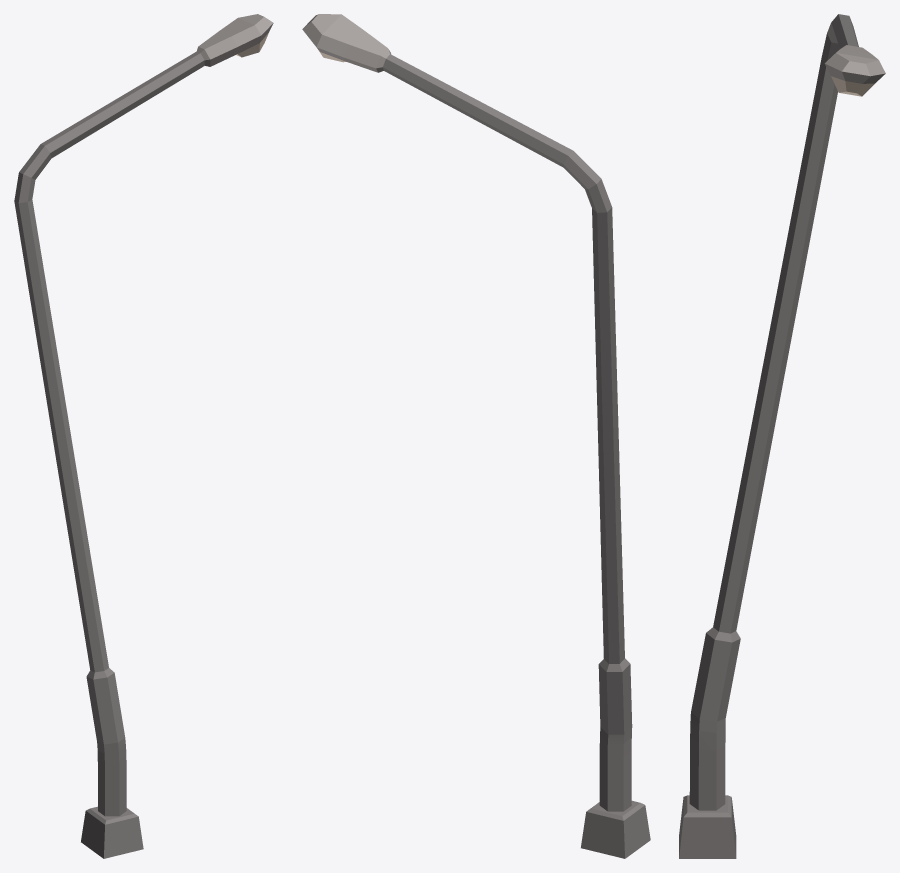
File: apocalypse_lamp-road-apocalypse-b.fbx
3 views of the same model, side by side, from view 1: azimuth 30°, elevation 25°; view 2: azimuth 150°, elevation 25°; view 3: azimuth 270°, elevation 25° (orthographic). The views are drawn at different scales.
Visible parts, largest first — view 1: apocalypse_lamp_road_apocalypse_b; view 2: apocalypse_lamp_road_apocalypse_b; view 3: apocalypse_lamp_road_apocalypse_b.
Boxes of the visible parts, box(x1,y1,x2,y2) form: apocalypse_lamp_road_apocalypse_b: box(14, 14, 273, 858); apocalypse_lamp_road_apocalypse_b: box(302, 14, 650, 858); apocalypse_lamp_road_apocalypse_b: box(679, 14, 885, 858).
Bounding box in the file's own units: 74.21 × 200 × 41.08.
